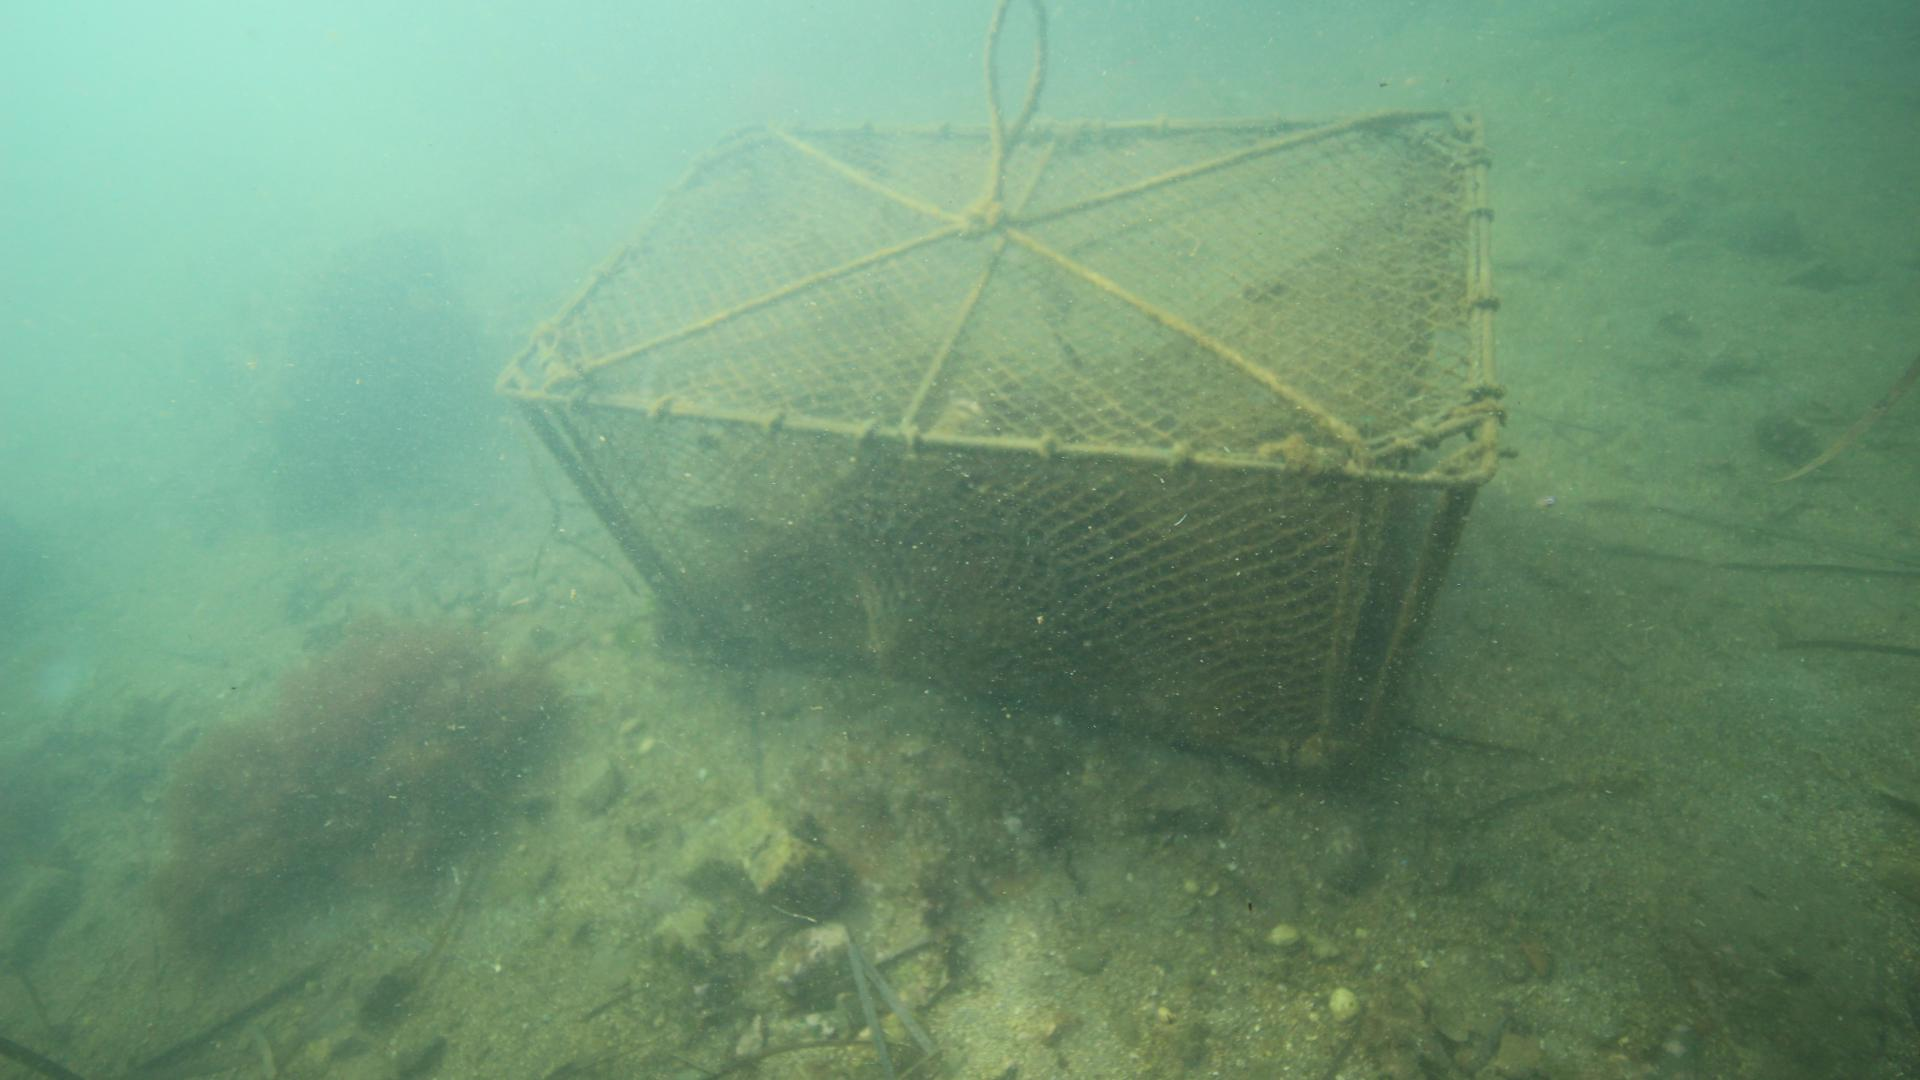bundle of rope: (971, 7, 1058, 233)
rectangular fish trap: (492, 103, 1509, 777)
